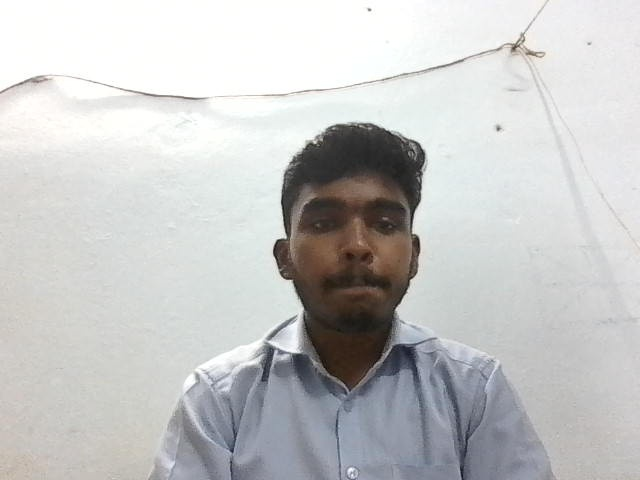real: (266, 103, 441, 351)
